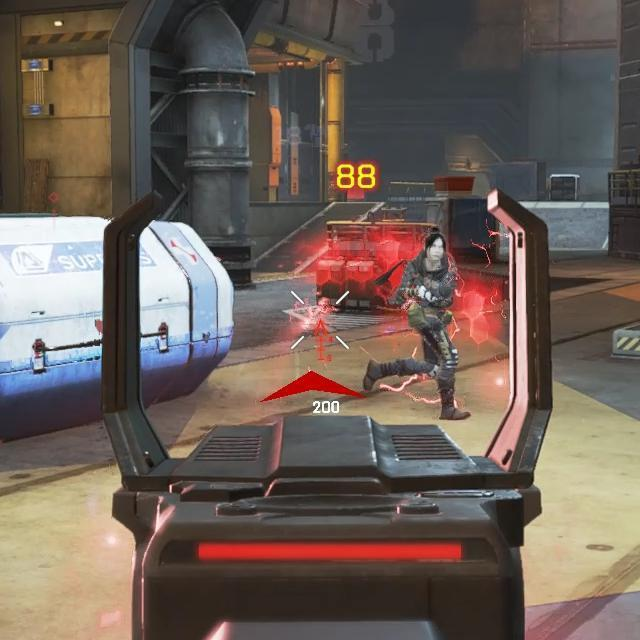avatar: (388, 229, 472, 422)
